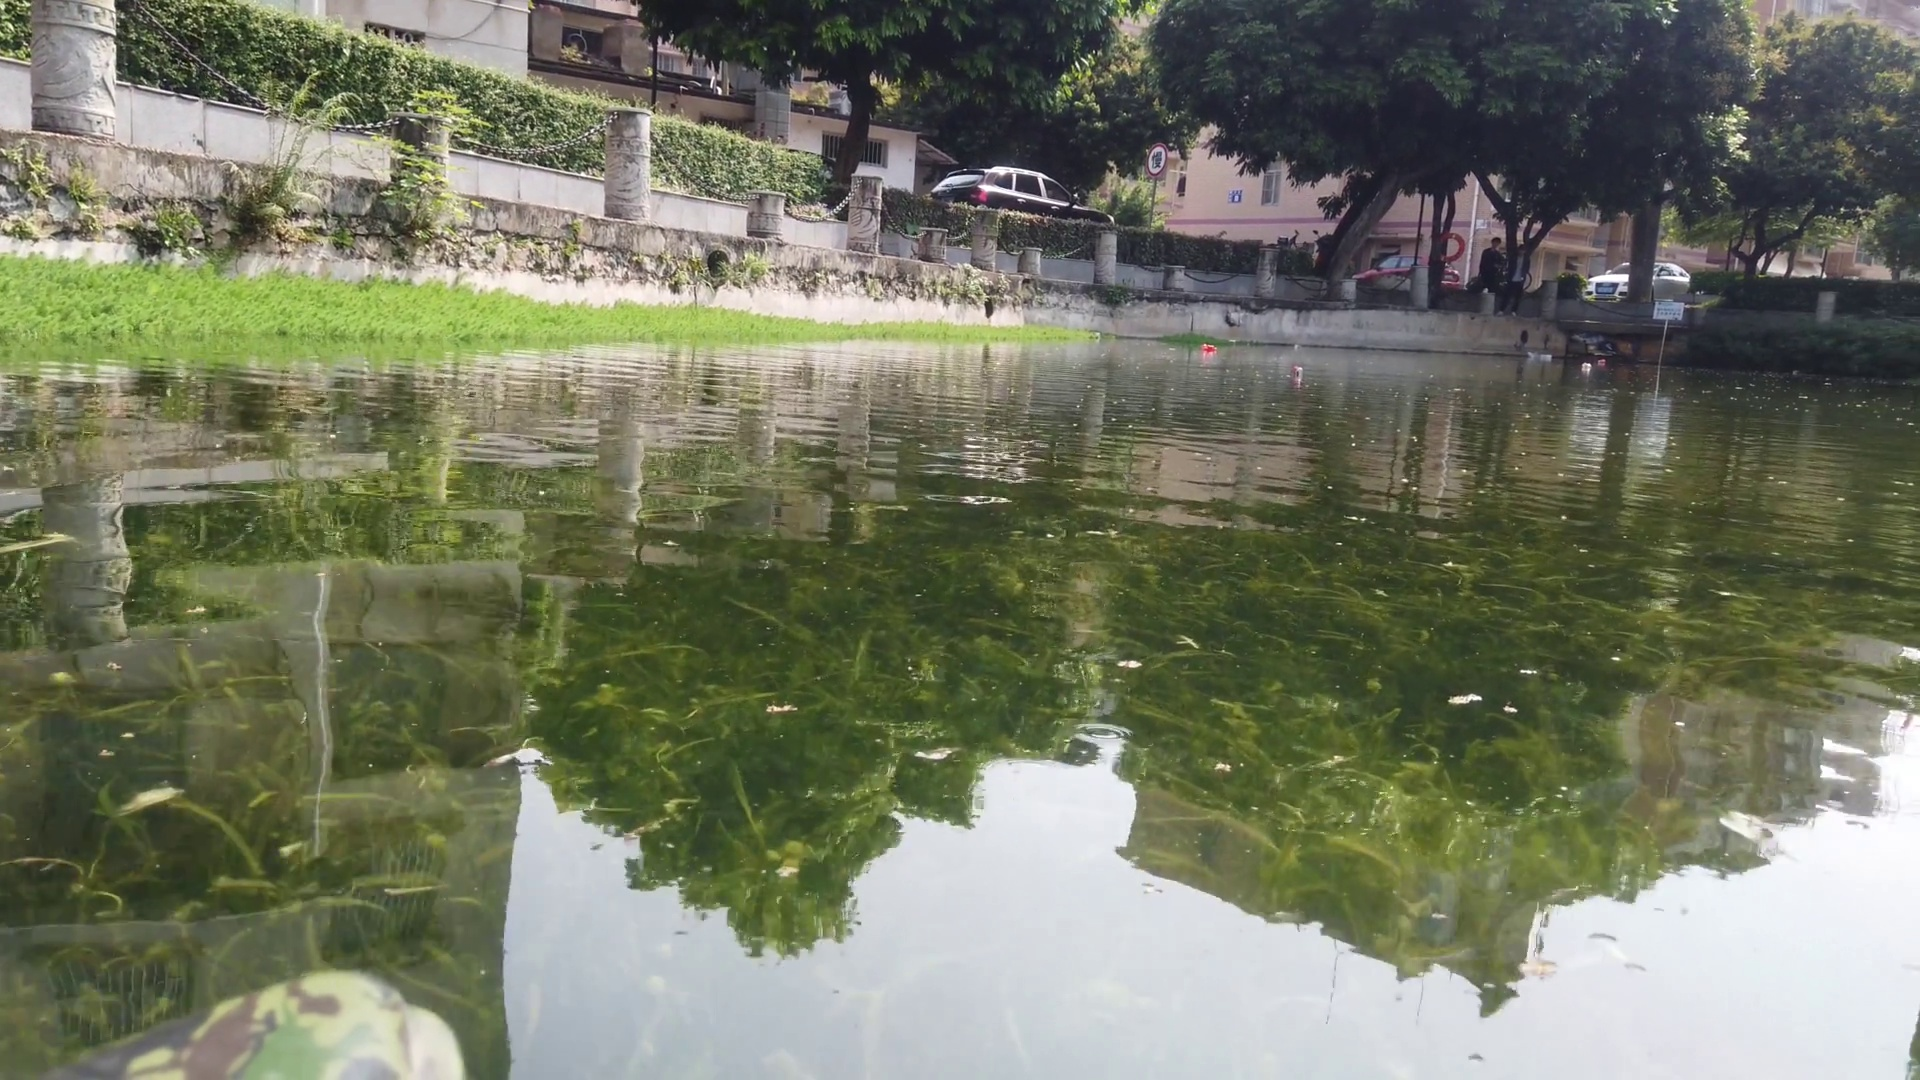bottle: (1288, 360, 1313, 378), (1199, 339, 1218, 357), (1581, 357, 1596, 376)
carton: (1527, 347, 1542, 367), (1592, 353, 1610, 367), (1538, 355, 1556, 364)
